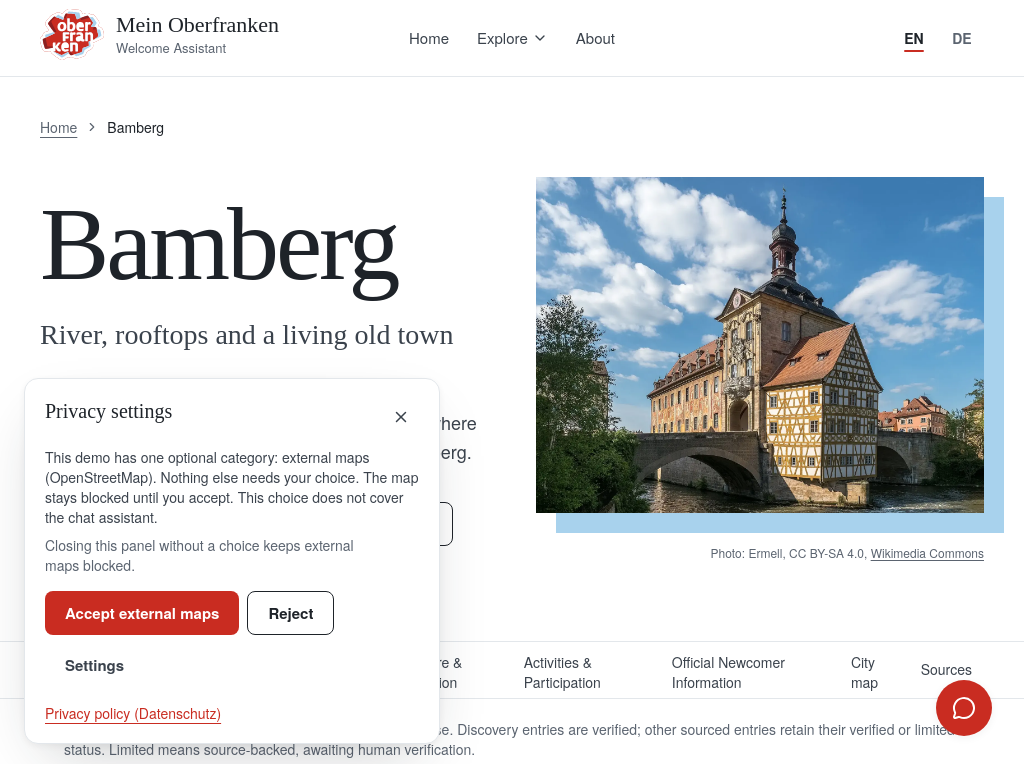
Test: catalog-driven discovery on bamberg › in de › shows the details and source of the first sight under the carousel
Step 1. Click the button with aria-label "Deutsch" → (962, 38), box 940,16 -> 984,60
(page scrolled)
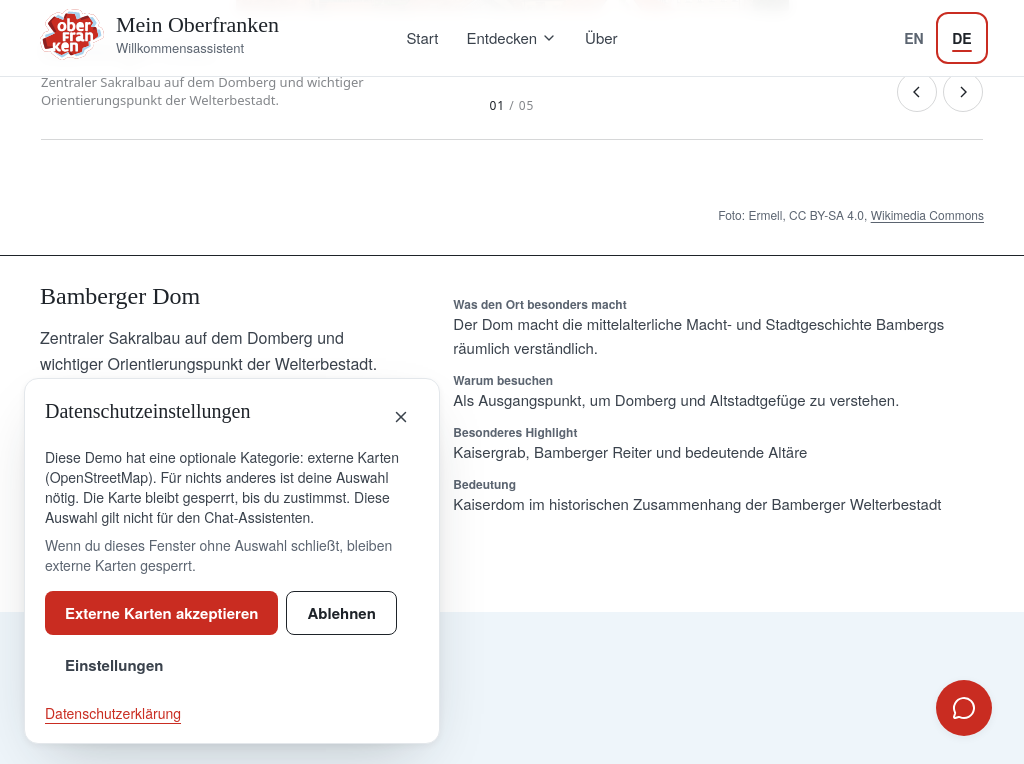
Expected: the text "Als Ausgangspunkt, um Domberg und Altstadtgefüge zu verstehen." is shown, 453,389 -> 899,410
Expected: the text "Kaisergrab, Bamberger Reiter und bedeutende Altäre" is shown, 453,441 -> 807,462
Expected: the text "Kaiserdom im historischen Zusammenhang der Bamberger Welterbestadt" is shown, 453,492 -> 984,516
